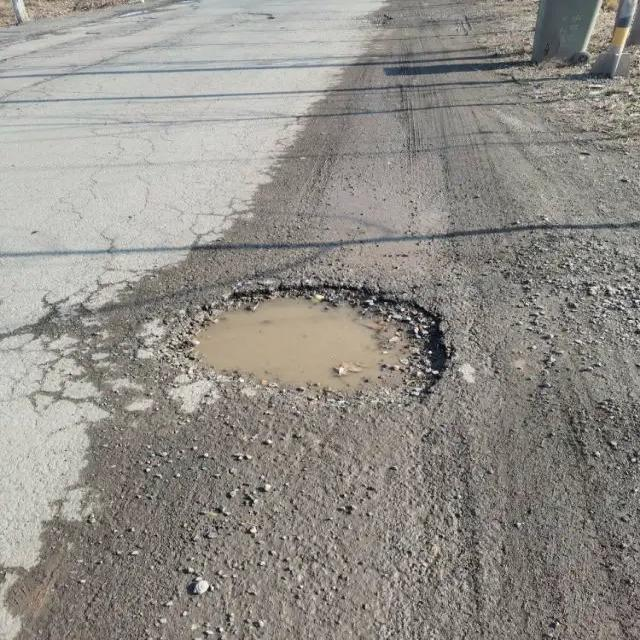Pothole: (176, 284, 455, 411)
